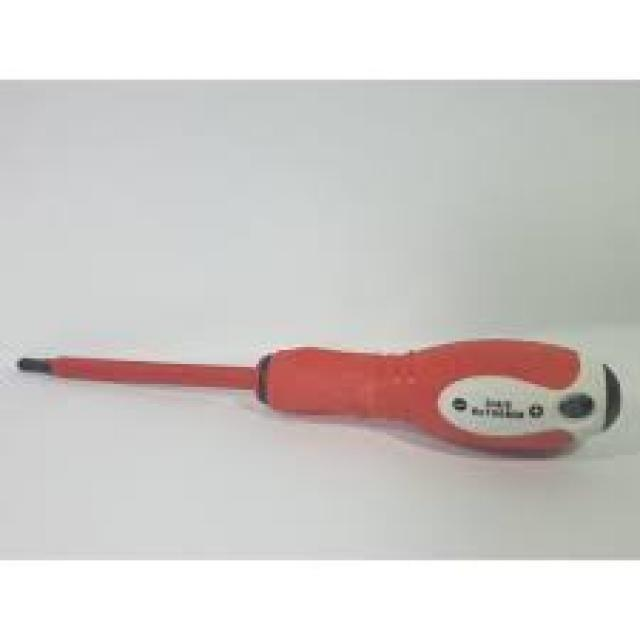screwdriver: (11, 336, 628, 464)
